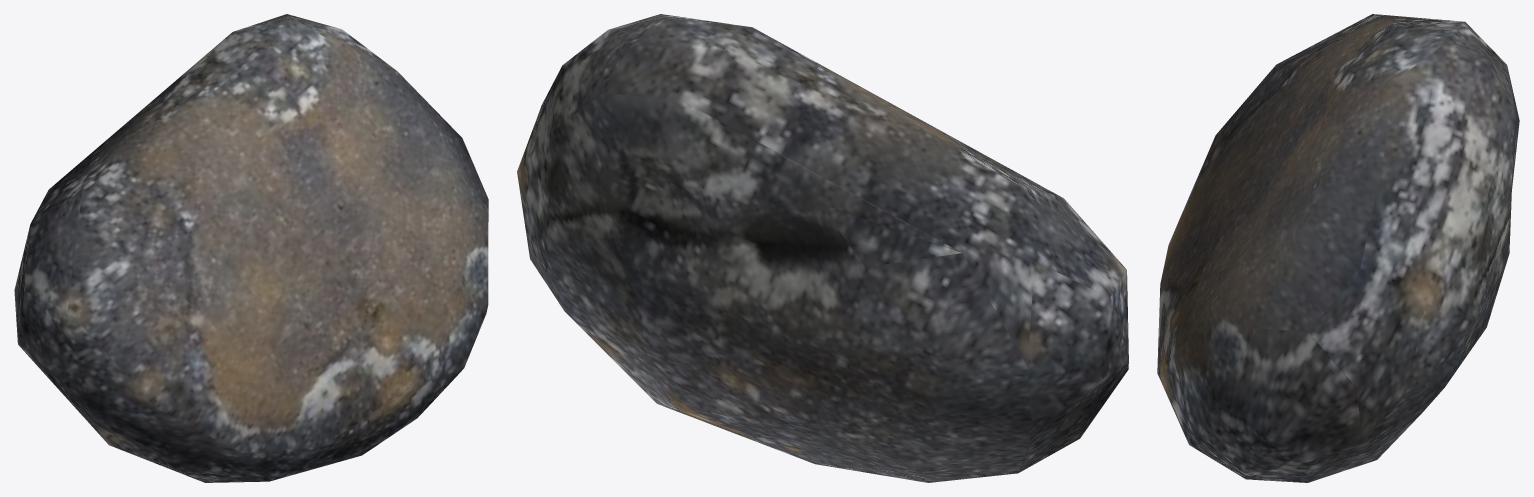
3 renders of one model, left to right at view 1: azimuth 30°, elevation 25°; view 2: azimuth 150°, elevation 25°; view 3: azimuth 270°, elevation 25°, orthographic. The views are drawn at different scales.
Visible parts, largest first — view 1: rock079_lod4; view 2: rock079_lod4; view 3: rock079_lod4.
Boxes of the visible parts, left/top/right/bottom form: rock079_lod4: left=14, top=14, right=488, bottom=482; rock079_lod4: left=517, top=14, right=1128, bottom=482; rock079_lod4: left=1157, top=14, right=1519, bottom=482.
Bounding box in the file's own units: 1 × 0.8063 × 0.585.
1 material, 1 textured.
